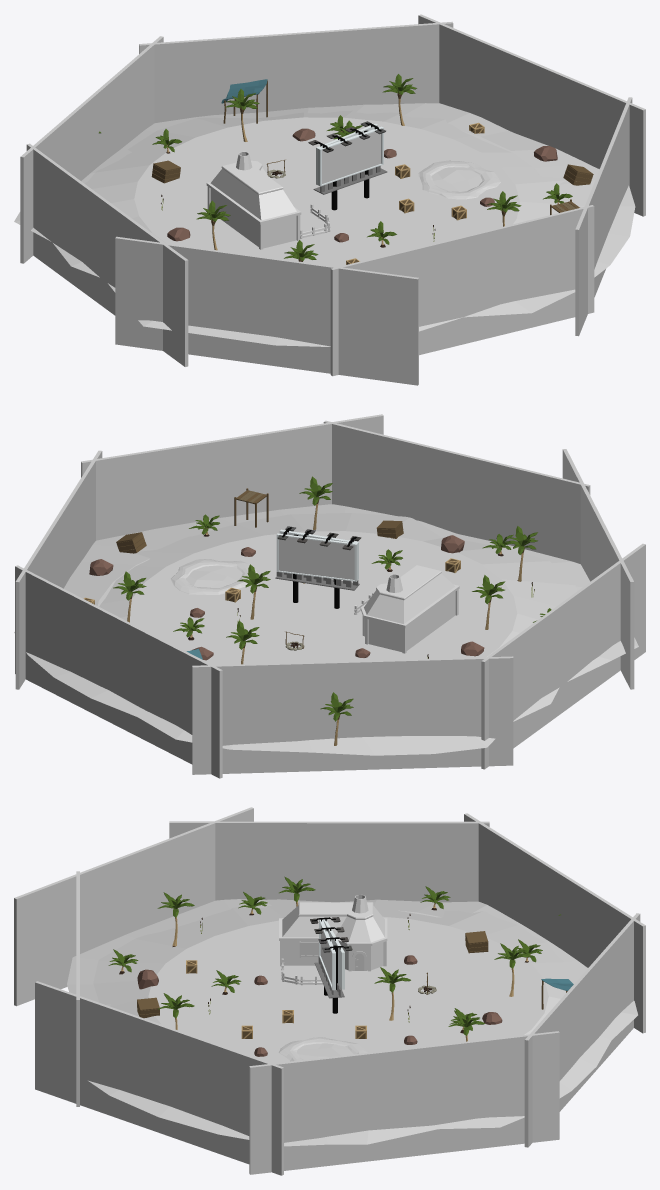
File: transformedisland.fbx
3 views of the same model, one above another, from view 1: azimuth 30°, elevation 25°; view 2: azimuth 150°, elevation 25°; view 3: azimuth 270°, elevation 25° (orthographic).
Parts seen in each view (by area): view 1: Cylinder.001, Cube.028, Cube.025, Cube.022, Cube.024, Cube.027, Cylinder, Cube.026, Cube.023, Cube.009, display1, Plane.002 (+5 smaller); view 2: Cylinder.001, Cube.026, Cube.022, Cube.023, Cube.025, Cube.027, Cylinder, Cube.024, Cube.028, Cube.009, display2, Plane.002 (+5 smaller); view 3: Cylinder.001, Cube.024, Cube.023, Cube.027, Cube.028, Cube.026, Cylinder, Cube.025, Cube.009, Plane.002, Cube.022, Torus (+1 smaller).
Part boxes in pixels (x1,y1,x2,y2): Cylinder.001: [84, 110, 568, 266]; Cube.028: [115, 236, 418, 385]; Cube.025: [139, 21, 453, 122]; Cube.022: [330, 205, 594, 376]; Cube.024: [418, 14, 645, 216]; Cube.027: [26, 143, 188, 366]; Cylinder: [14, 103, 635, 346]; Cube.026: [20, 36, 163, 263]; Cube.023: [575, 97, 632, 336]; Cube.009: [206, 160, 301, 224]; display1: [322, 132, 381, 183]; Plane.002: [210, 189, 296, 248]; Cylinder.001: [99, 513, 577, 664]; Cube.026: [192, 656, 513, 774]; Cube.022: [323, 420, 590, 563]; Cube.023: [81, 414, 383, 540]; Cube.025: [15, 565, 222, 778]; Cube.027: [481, 543, 645, 769]; Cylinder: [14, 504, 638, 755]; Cube.024: [15, 450, 102, 689]; Cube.028: [562, 449, 634, 689]; Cube.009: [360, 565, 459, 628]; display2: [279, 537, 354, 579]; Plane.002: [364, 592, 455, 651]; Cylinder.001: [93, 902, 584, 1063]; Cube.024: [249, 1031, 559, 1174]; Cube.023: [35, 981, 283, 1175]; Cube.027: [169, 821, 489, 902]; Cube.028: [14, 807, 253, 1006]; Cube.026: [464, 813, 645, 1033]; Cylinder: [67, 899, 637, 1146]; Cube.025: [524, 913, 640, 1147]; Cube.009: [279, 902, 387, 945]; Plane.002: [283, 941, 383, 970]; Cube.022: [76, 871, 79, 1106]; Torus: [279, 1037, 369, 1061].
Bounding box in the file's own units: 7866 × 1620 × 8032.
